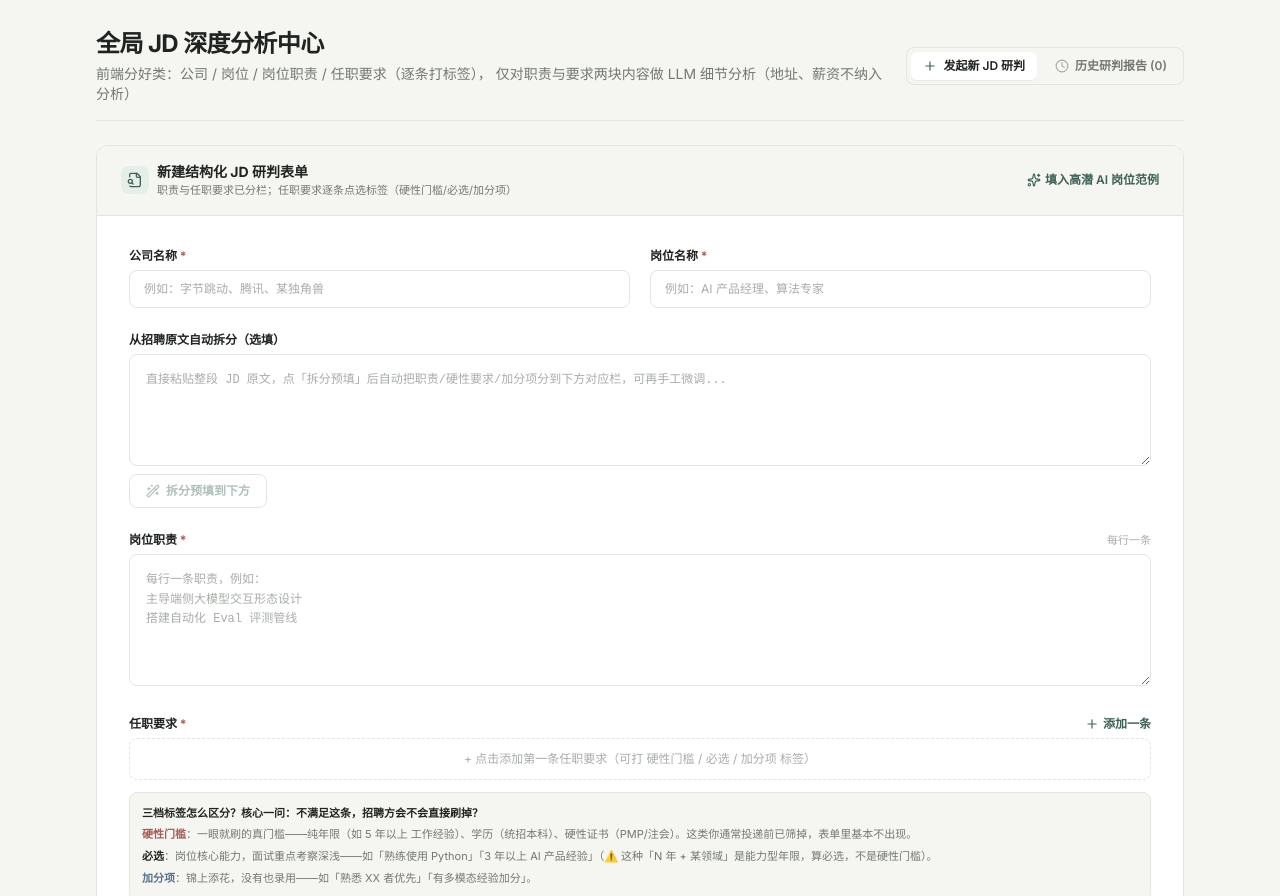
Test: 历史表格 · 客户端分页（T-M4-4） › 超过 pageSize 只渲染一页，第 2 页展示余下行；控件显示第 x/y 页与共 N 条
Click the button "历史研判报告 (0)".
click(1111, 66)  # box left=1043, top=52, right=1179, bottom=80
(page scrolled)
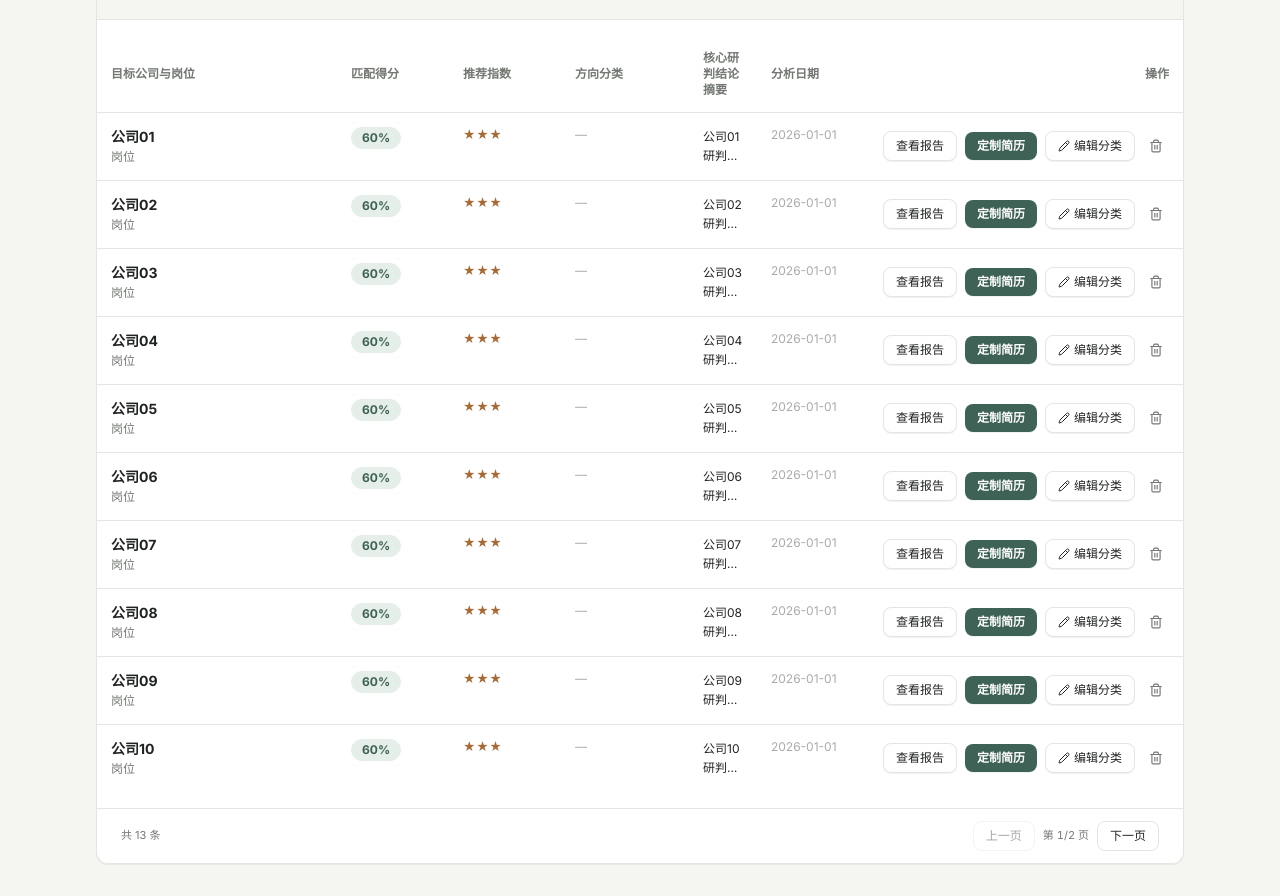
Result: the text "公司01" is shown at left=111, top=128, right=154, bottom=144
Result: the element with test id "jd-history-pagination" shows "共 13 条" at left=97, top=808, right=1183, bottom=862
Result: the text with test id "jd-history-page-info" reads "第 1/2 页" at left=1043, top=827, right=1089, bottom=844
Click the button with test id "jd-history-next".
click(1128, 836)  # box left=1097, top=820, right=1159, bottom=850
(page scrolled)
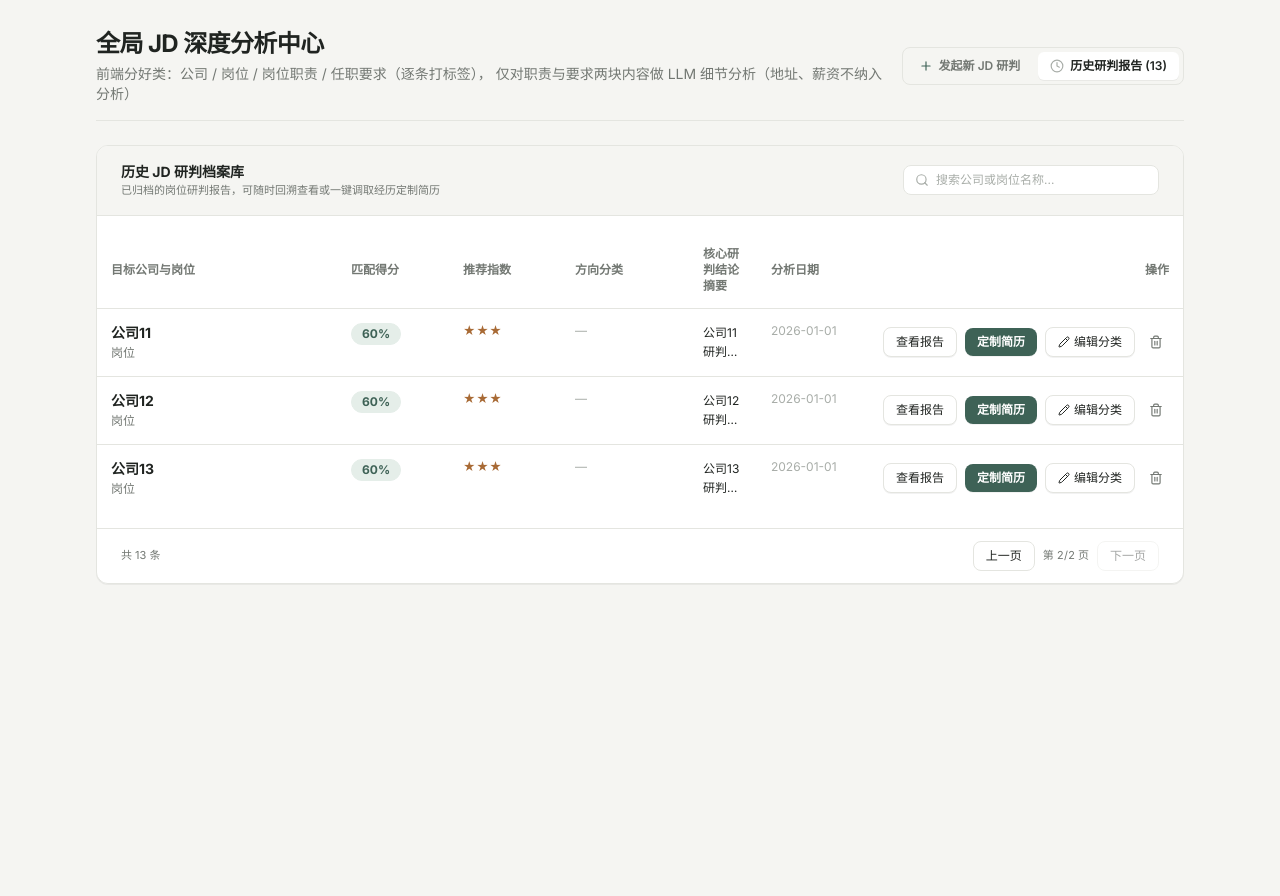
Result: the text "公司11" is shown at left=111, top=324, right=151, bottom=340
Result: the text "公司13" is shown at left=111, top=460, right=154, bottom=476
Result: the text "公司01" is gone
Click the button with test id "jd-history-prev".
click(1004, 556)  # box left=973, top=540, right=1035, bottom=570
(page scrolled)
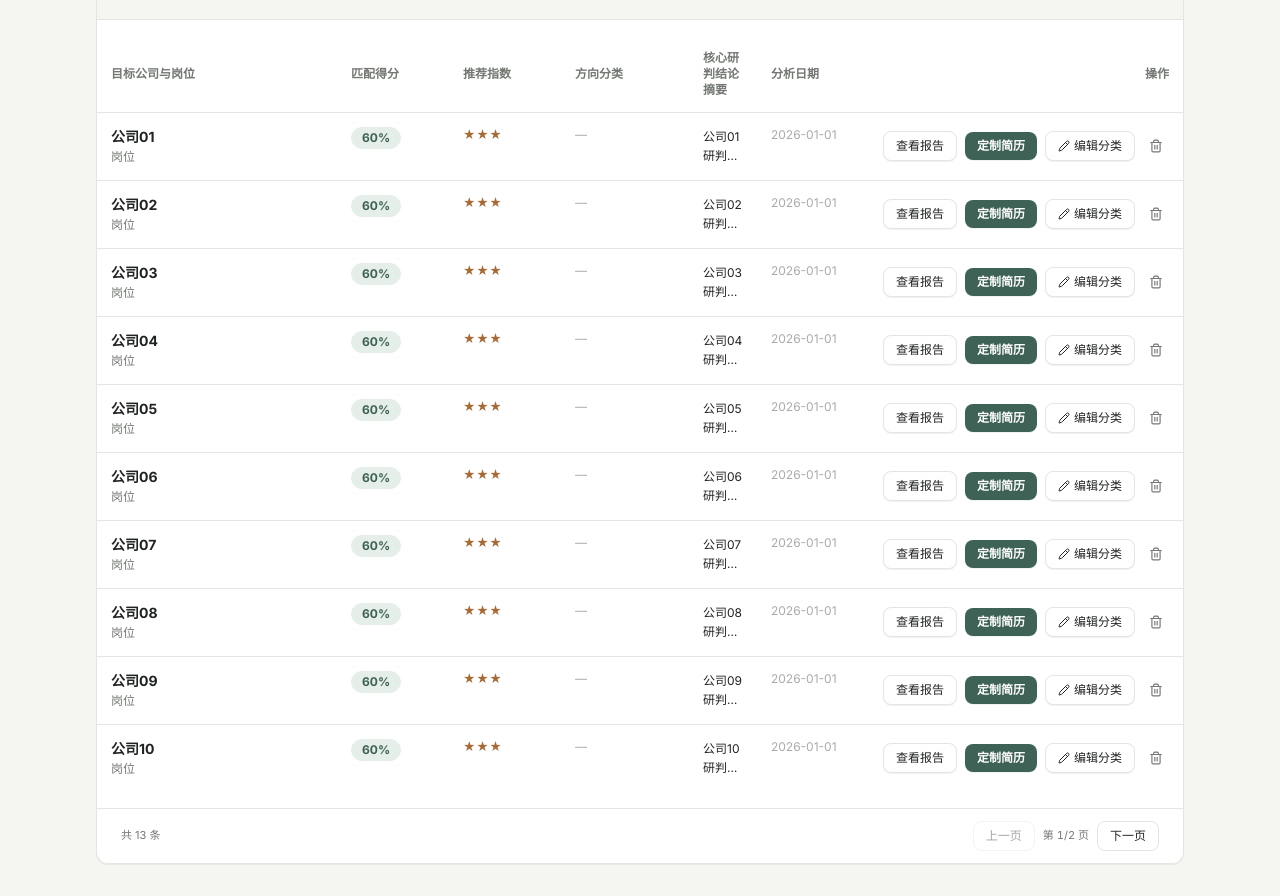
Result: the text "公司01" is shown at left=111, top=128, right=154, bottom=144
Result: the text with test id "jd-history-page-info" reads "第 1/2 页" at left=1043, top=827, right=1089, bottom=844
